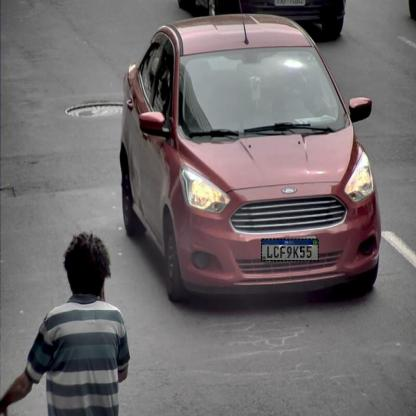PlacaM: (261, 238, 319, 262)
